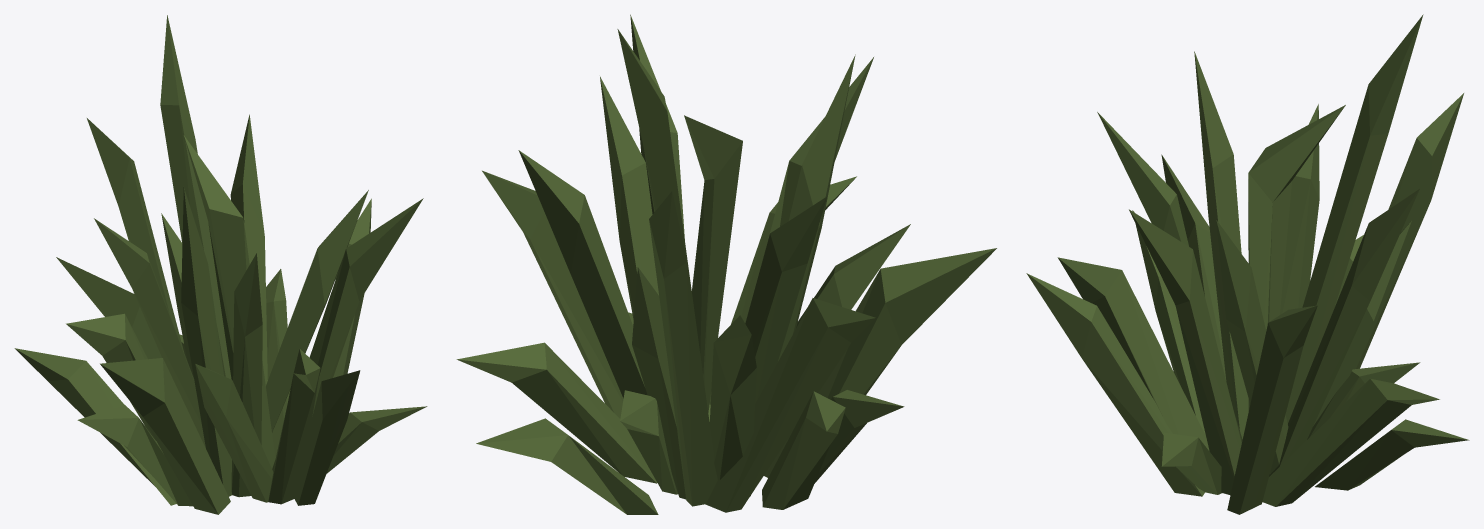
File: grass-2.glb
3 renders of one model, left to right at view 1: azimuth 30°, elevation 25°; view 2: azimuth 150°, elevation 25°; view 3: azimuth 270°, elevation 25°, orthographic. The views are drawn at different scales.
Visible parts, largest first — view 1: grass-2; view 2: grass-2; view 3: grass-2.
Boxes of the visible parts, <box> form: grass-2: <box>14,15,427,514</box>; grass-2: <box>456,14,996,514</box>; grass-2: <box>1026,14,1469,514</box>.
Bounding box in the file's own units: 0.4502 × 0.5275 × 0.4563.
Materials: 1 (1 with a texture image).
